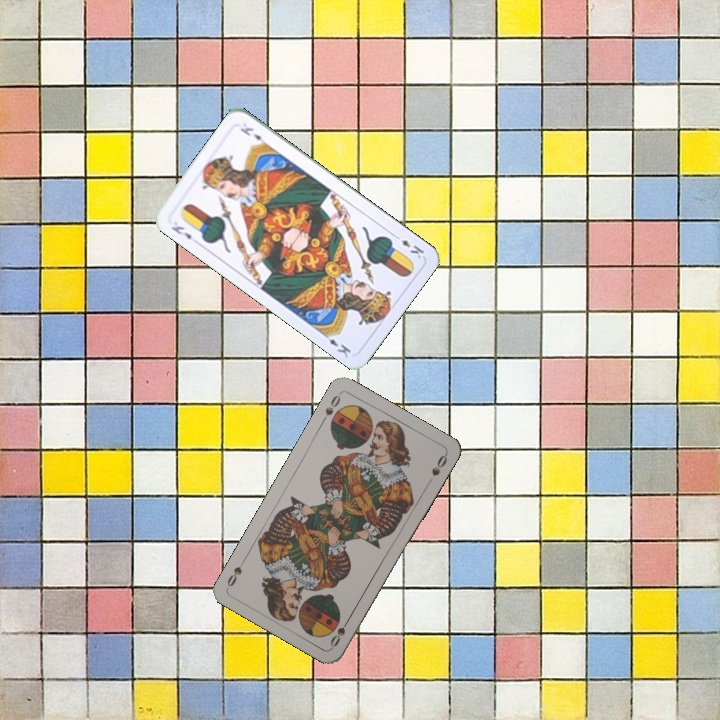EK: (390, 231, 427, 261), (167, 222, 194, 242)
SO: (326, 613, 353, 650), (317, 389, 343, 426)
